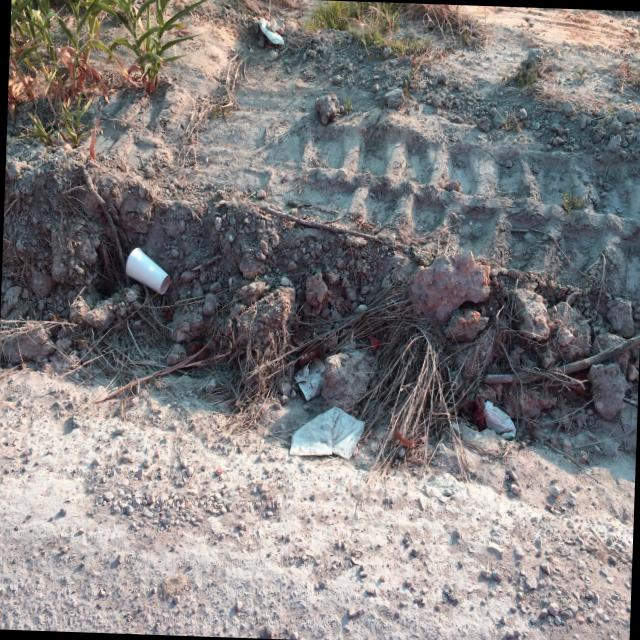less trash: (290, 407, 364, 458), (125, 248, 169, 293)
